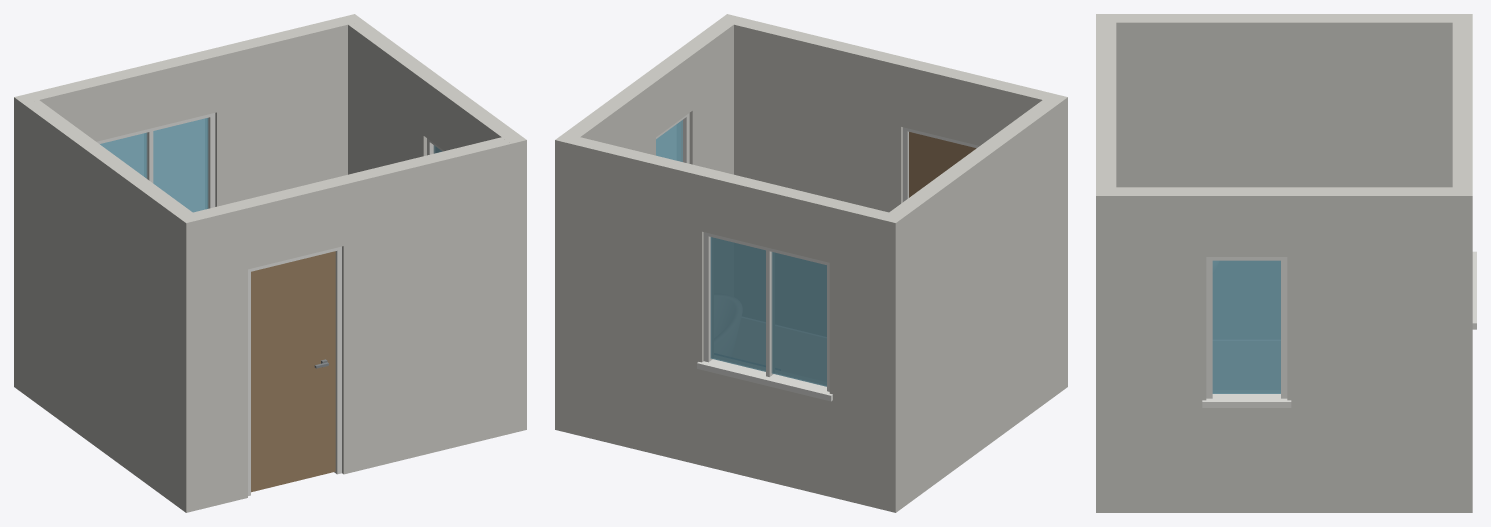
File: oursv11b.glb
3 views of the same model, side by side, from view 1: azimuth 30°, elevation 25°; view 2: azimuth 150°, elevation 25°; view 3: azimuth 270°, elevation 25° (orthographic). The views are drawn at different scales.
Visible parts, largest first — view 1: wall|scenesmith_075__R00|0, wall|scenesmith_075__R00|2, wall|scenesmith_075__R00|1, wall|scenesmith_075__R00|0 Door 0 | wood leaf, wall|scenesmith_075__R00|3, wall|scenesmith_075__R00|1 Window 0 | glazing, wall|scenesmith_075__R00|0 Door 0 | jamb, wall|scenesmith_075__R00|1 Window 0 | jamb; view 2: wall|scenesmith_075__R00|1, wall|scenesmith_075__R00|2, wall|scenesmith_075__R00|0, wall|scenesmith_075__R00|3, wall|scenesmith_075__R00|1 Window 0 | glazing, wall|scenesmith_075__R00|1 Window 0 | jamb, wall|scenesmith_075__R00|0 Door 0 | wood leaf, wall|scenesmith_075__R00|3 Window 0 | glazing, wall|scenesmith_075__R00|0 Door 0 | jamb; view 3: wall|scenesmith_075__R00|3, wall|scenesmith_075__R00|2, wall|scenesmith_075__R00|3 Window 0 | glazing, wall|scenesmith_075__R00|1, wall|scenesmith_075__R00|0, wall|scenesmith_075__R00|3 Window 0 | jamb.
Boxes of the visible parts, x1,y1,x2,y2 form: wall|scenesmith_075__R00|0: (186, 137, 526, 512); wall|scenesmith_075__R00|2: (23, 100, 201, 512); wall|scenesmith_075__R00|1: (14, 14, 363, 393); wall|scenesmith_075__R00|0 Door 0 | wood leaf: (251, 251, 335, 492); wall|scenesmith_075__R00|3: (348, 21, 526, 174); wall|scenesmith_075__R00|1 Window 0 | glazing: (100, 118, 208, 212); wall|scenesmith_075__R00|0 Door 0 | jamb: (248, 246, 341, 495); wall|scenesmith_075__R00|1 Window 0 | jamb: (96, 113, 215, 208); wall|scenesmith_075__R00|1: (555, 133, 904, 512); wall|scenesmith_075__R00|2: (880, 93, 1067, 512); wall|scenesmith_075__R00|0: (734, 18, 1067, 389); wall|scenesmith_075__R00|3: (555, 14, 742, 433); wall|scenesmith_075__R00|1 Window 0 | glazing: (710, 237, 826, 386); wall|scenesmith_075__R00|1 Window 0 | jamb: (697, 232, 832, 401); wall|scenesmith_075__R00|0 Door 0 | wood leaf: (909, 132, 976, 197); wall|scenesmith_075__R00|3 Window 0 | glazing: (656, 120, 682, 161); wall|scenesmith_075__R00|0 Door 0 | jamb: (903, 127, 979, 201); wall|scenesmith_075__R00|3: (1096, 187, 1472, 512); wall|scenesmith_075__R00|2: (1096, 14, 1452, 187); wall|scenesmith_075__R00|3 Window 0 | glazing: (1212, 260, 1280, 393); wall|scenesmith_075__R00|1: (1452, 14, 1472, 195); wall|scenesmith_075__R00|0: (1096, 22, 1116, 187); wall|scenesmith_075__R00|3 Window 0 | jamb: (1202, 257, 1291, 407).
Size of the model in its own units: 3.23 by 2.61 by 2.83.
